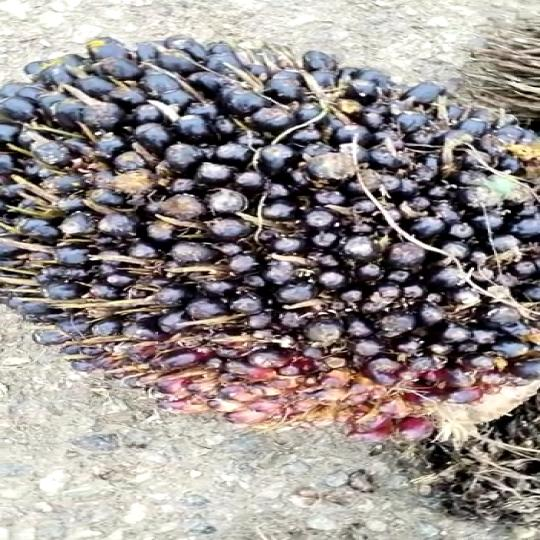mentah: (0, 23, 540, 424)
